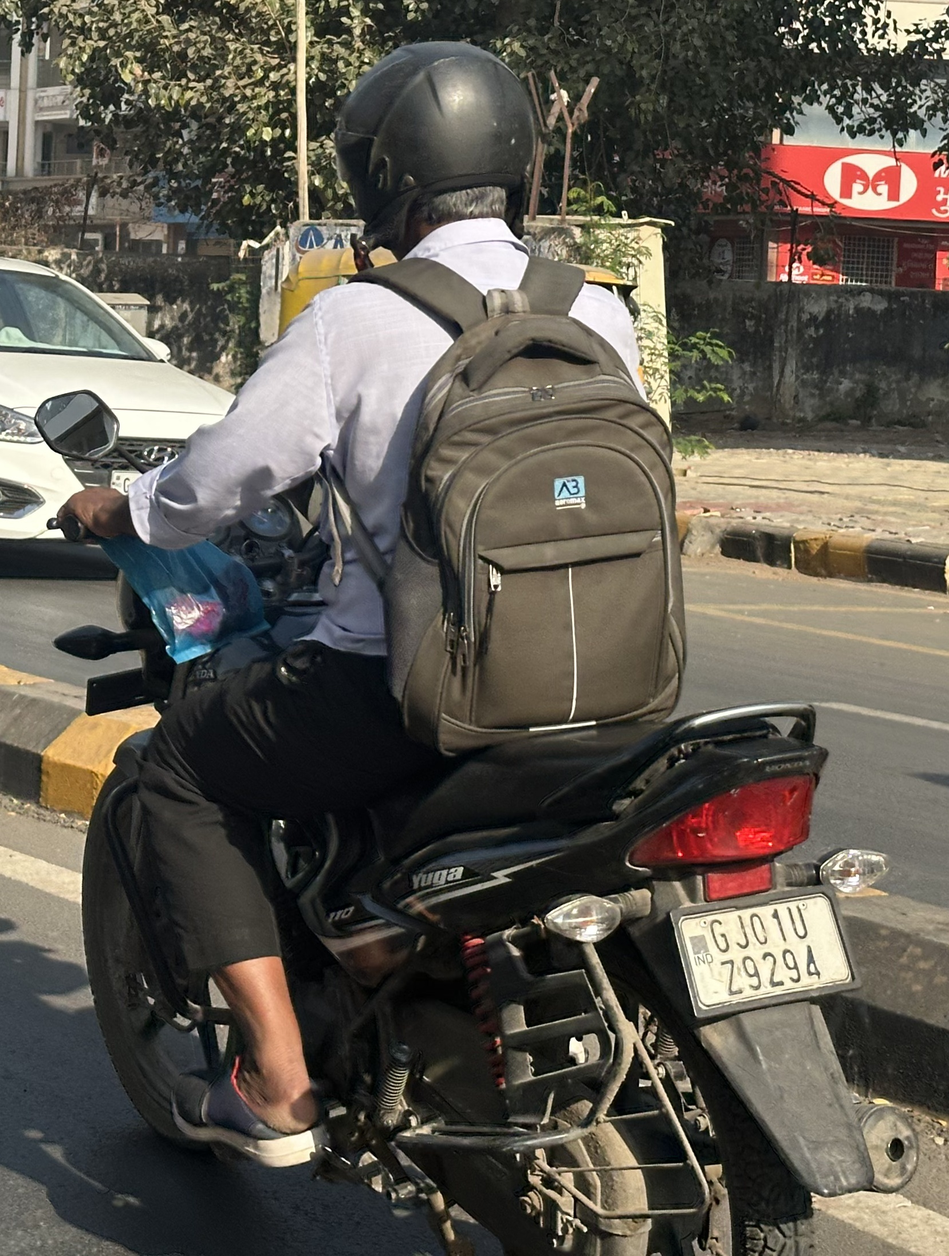BikeWithRider: (23, 28, 934, 1255)
Helmet: (320, 30, 555, 270)
